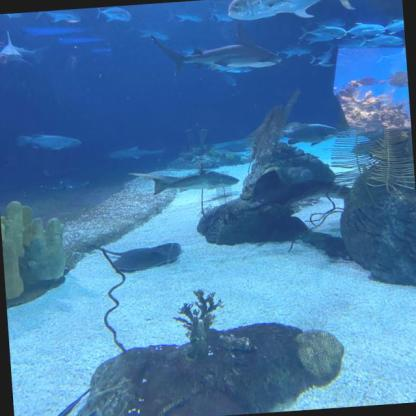fish: (228, 0, 358, 25), (151, 169, 240, 195), (275, 122, 340, 148), (17, 130, 83, 153), (297, 22, 347, 42), (34, 8, 82, 26), (130, 23, 170, 42), (344, 20, 385, 38), (359, 32, 404, 48), (95, 5, 131, 24), (167, 5, 202, 24), (327, 37, 363, 52), (282, 44, 312, 57), (387, 70, 408, 87), (382, 18, 404, 34), (208, 9, 230, 24), (0, 12, 26, 22), (220, 72, 236, 87), (358, 76, 380, 86)
shark: (150, 20, 280, 79), (0, 28, 53, 70), (102, 145, 166, 162), (309, 50, 342, 68)
stingray: (252, 164, 349, 206), (111, 242, 183, 273), (40, 176, 91, 191), (214, 142, 248, 152)
